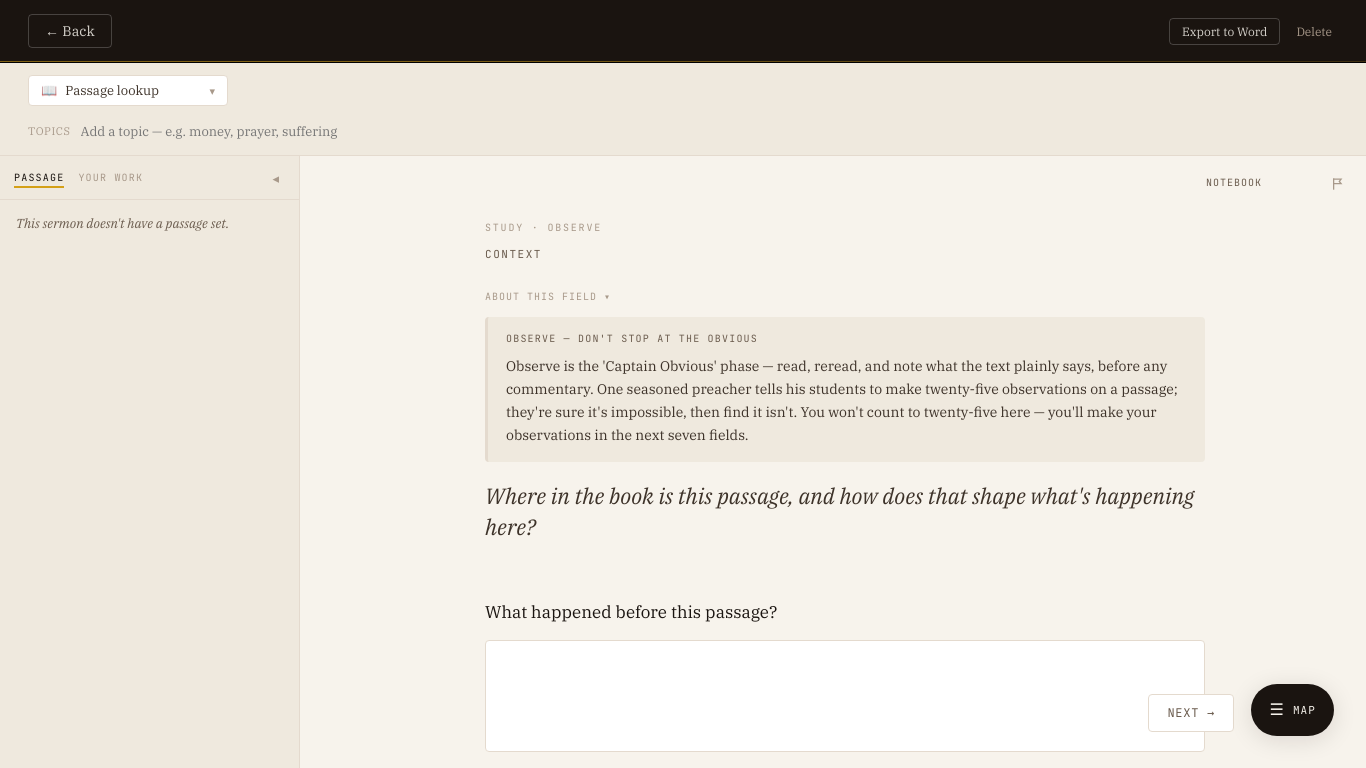
Scenario: Process Contract #3: movement is visible at thresholds, silent at within-stage steps › within-stage map-jump produces NO threshold overlay and NO data-testid='movement-event'
Click the button with class "sws-map-summon".
click(1293, 710)  # box [1251,684,1334,736]
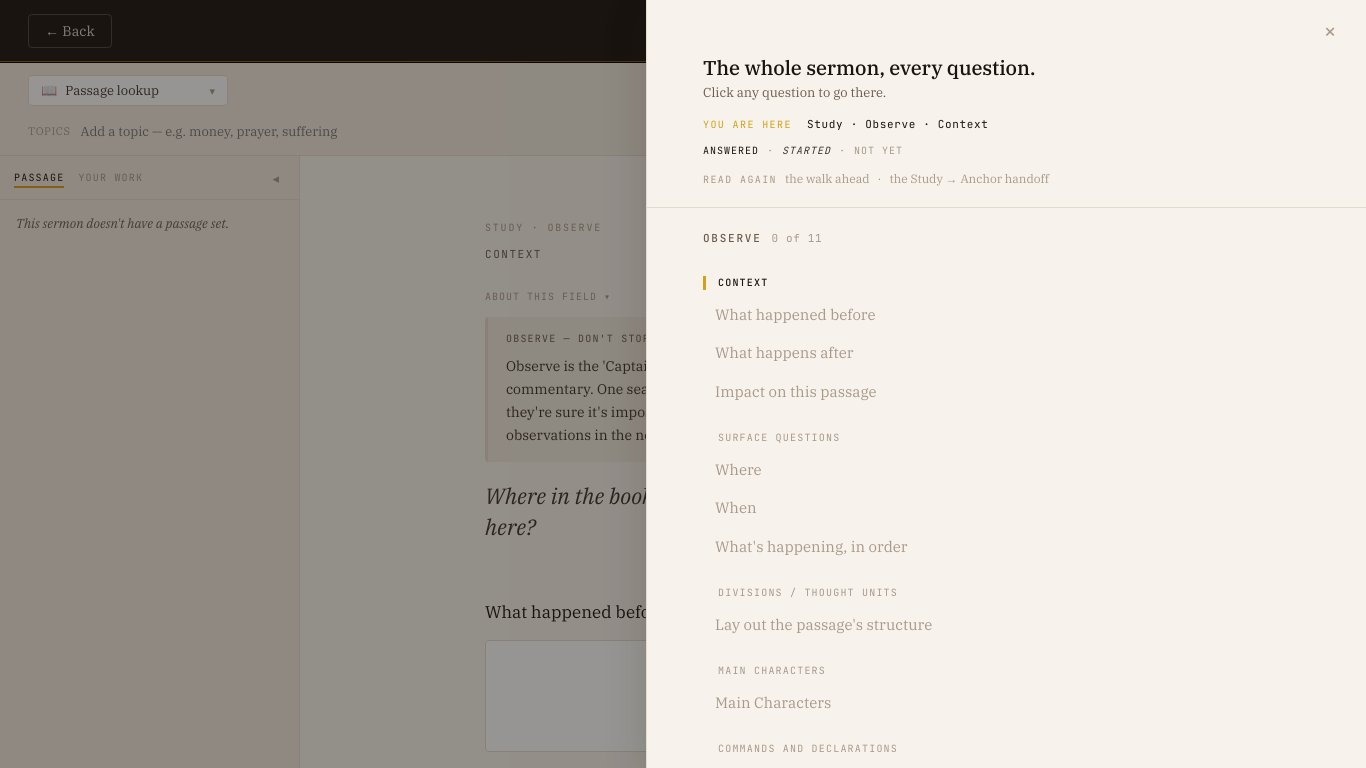
Click the button with class "sm-jump" showing "When".
click(736, 508)  # box [715,497,1310,520]
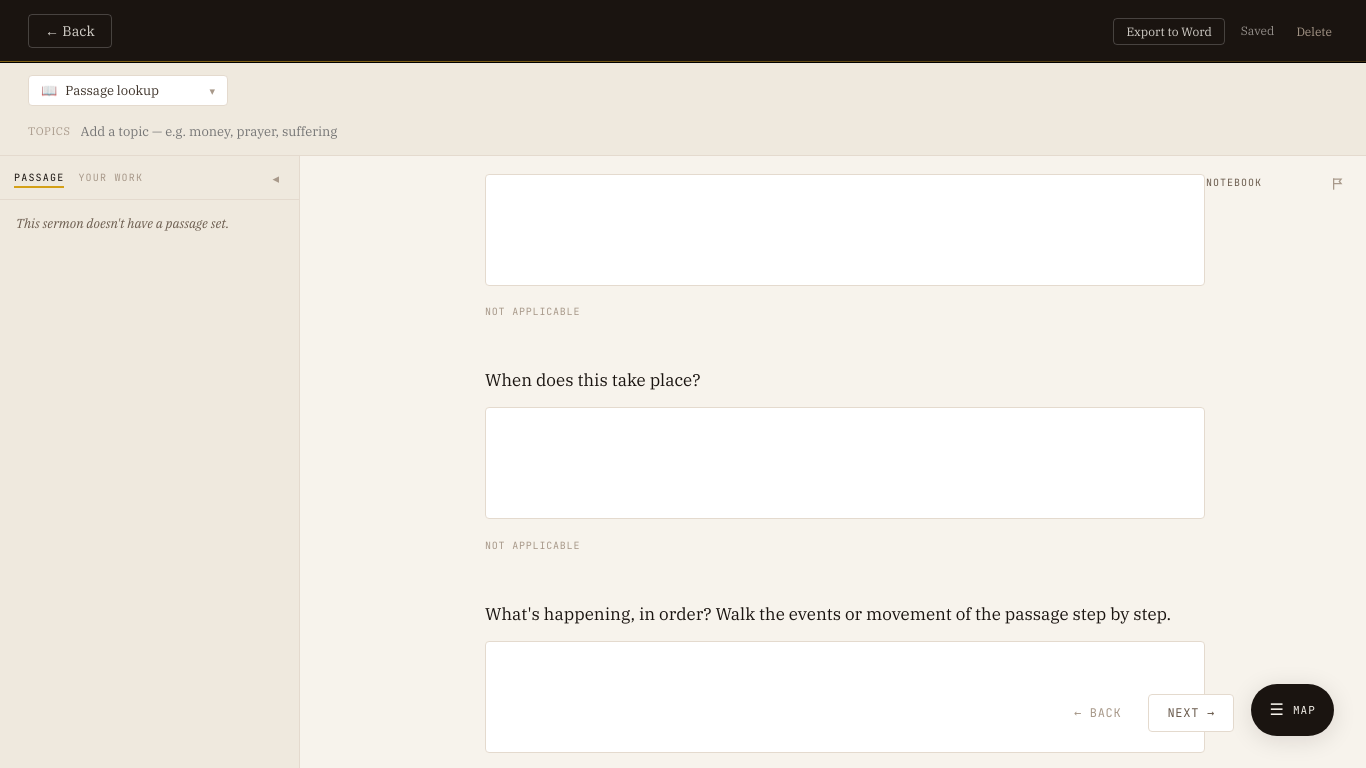
Now the dialog with class "sm-panel" is gone
